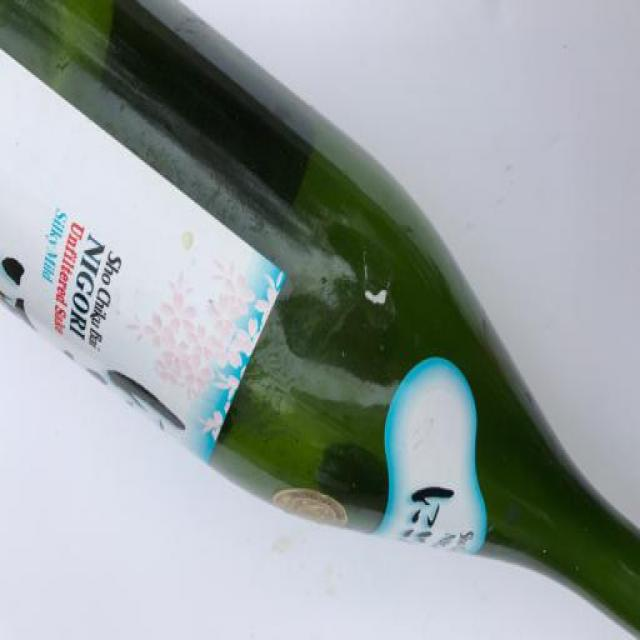Waste: (0, 1, 640, 632)
